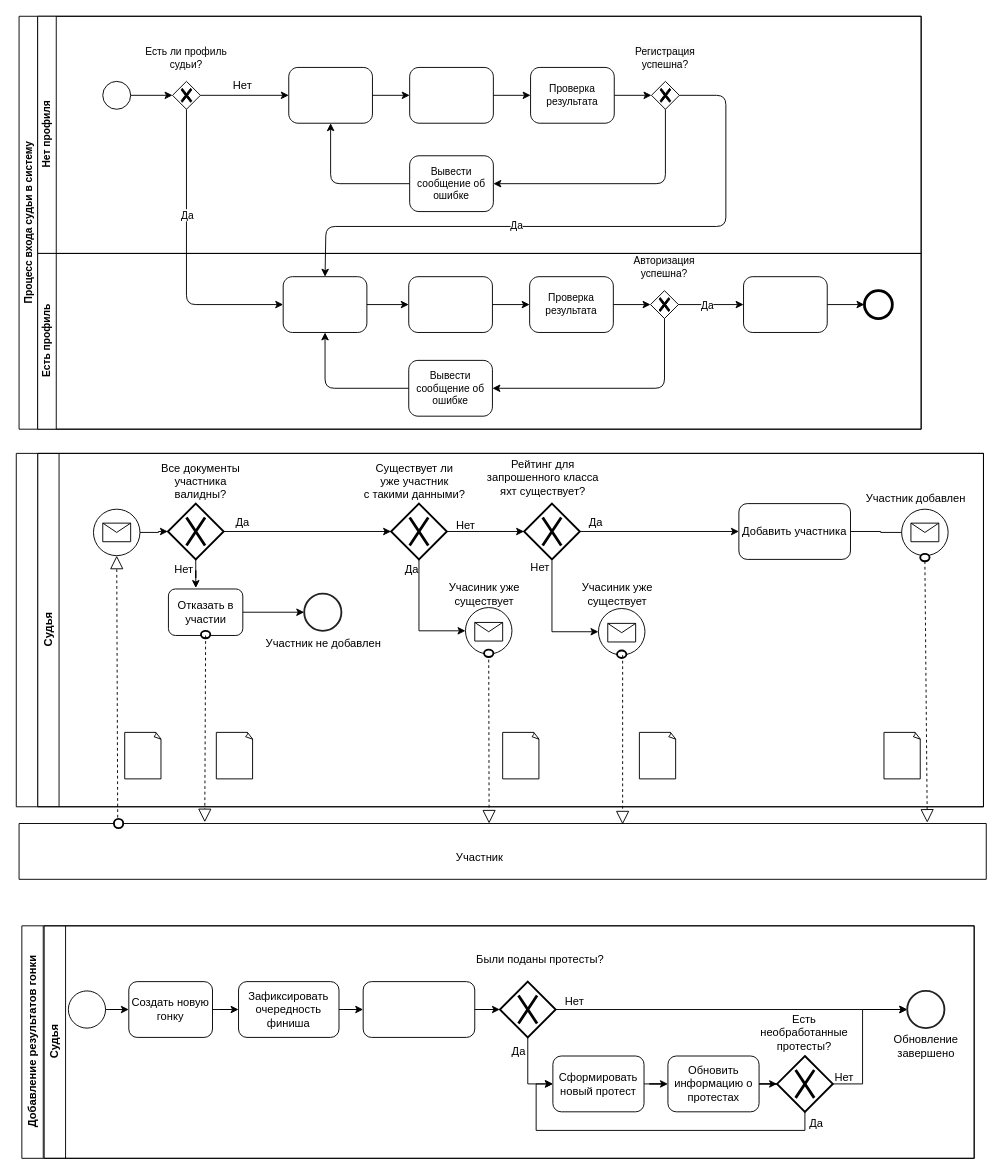
Some shapes in this 1003 by 1175 pixel diagram are drawn without their labels. The centre of each missing label's shape, as x and y in pixels:
Авторизация успешна: (x=878, y=304)
Ввести данные для регистрации: (x=451, y=94)
Ввести логин и пароль: (x=450, y=304)
Войти в систему: (x=116, y=94)
Добавление участника: (x=499, y=629)
Обновить рейтинг с добавлением новой гонки: (x=418, y=1009)
Открыть окно авторизации: (x=324, y=304)
Открыть окно регистрации: (x=330, y=94)
Перевести пользователя на главную страницу: (x=785, y=304)
